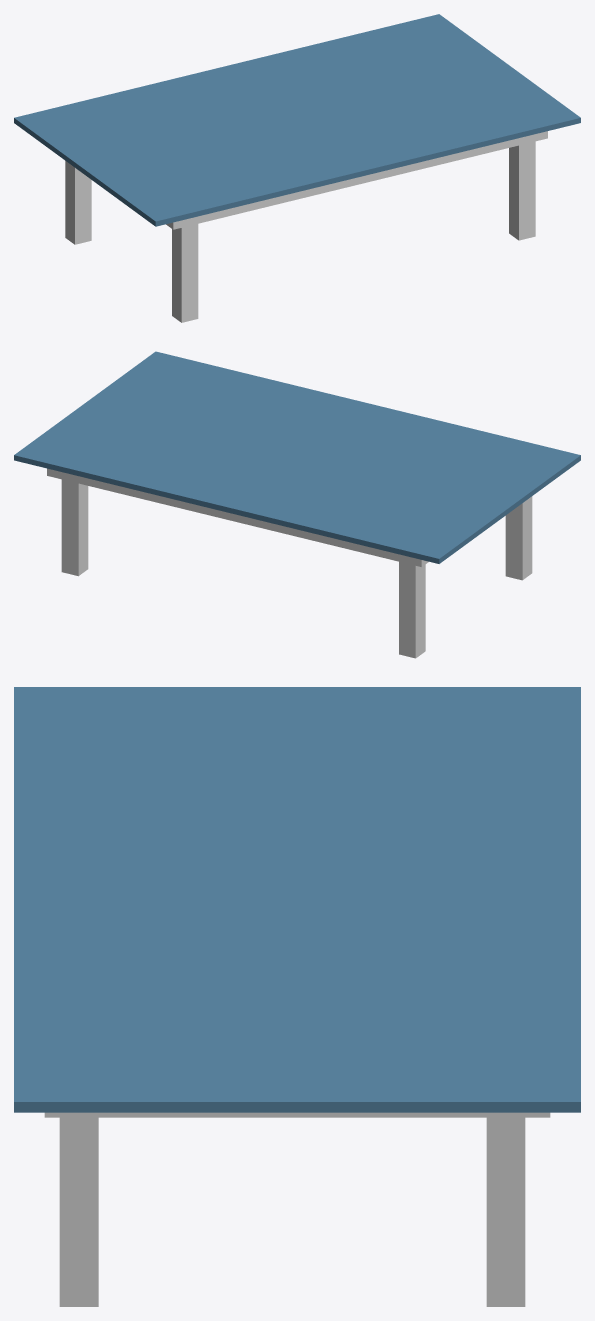
Rendered from nice Table.fbx.
The picture shows the model from 3 angles, top to bottom: view 1: azimuth 30°, elevation 25°; view 2: azimuth 150°, elevation 25°; view 3: azimuth 270°, elevation 25°; orthographic projection. The views are drawn at different scales.
Parts seen in each view (by area): view 1: pCube5; view 2: pCube5; view 3: pCube5.
Part boxes in pixels (x1,y1,x2,y2): pCube5: [14, 14, 580, 322]; pCube5: [14, 351, 580, 658]; pCube5: [14, 687, 580, 1306].
Bounding box in the file's own units: 352 × 94.08 × 203.
